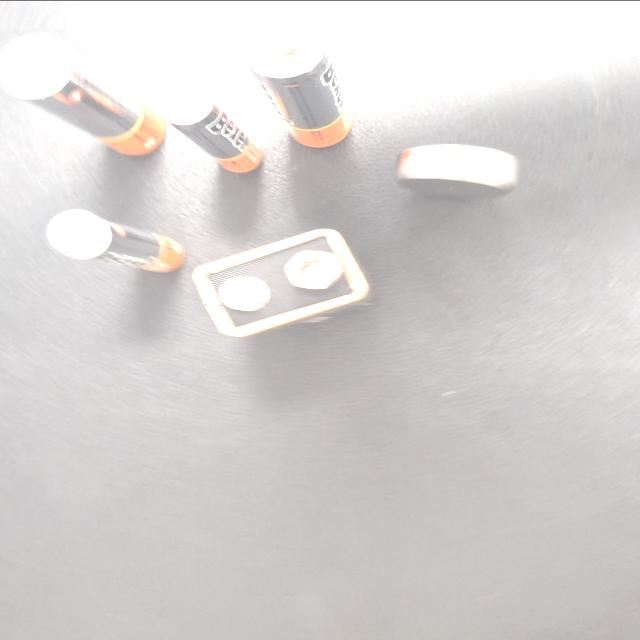9V: (271, 304, 447, 412)
AA: (474, 485, 640, 608), (288, 493, 400, 628)
AAA: (377, 468, 486, 563), (455, 368, 593, 432)
COIN: (121, 442, 243, 496)
